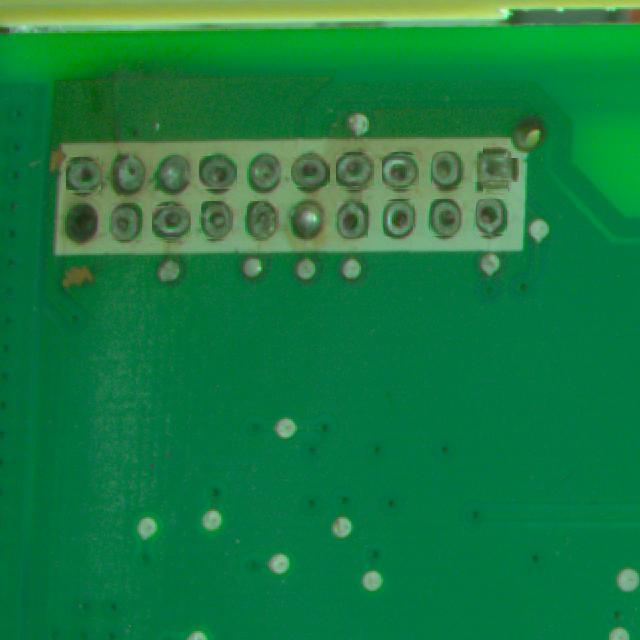low_solder: (291, 156, 329, 187), (153, 206, 191, 236), (247, 201, 277, 239), (472, 158, 519, 182), (430, 200, 461, 236), (111, 204, 142, 240), (200, 157, 236, 188), (202, 201, 231, 239), (337, 155, 373, 185), (338, 201, 367, 238), (66, 160, 101, 190), (382, 155, 418, 184), (476, 200, 506, 234), (432, 153, 462, 187), (384, 200, 412, 236)
